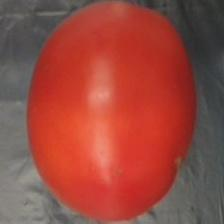unripe: (22, 0, 200, 224)
